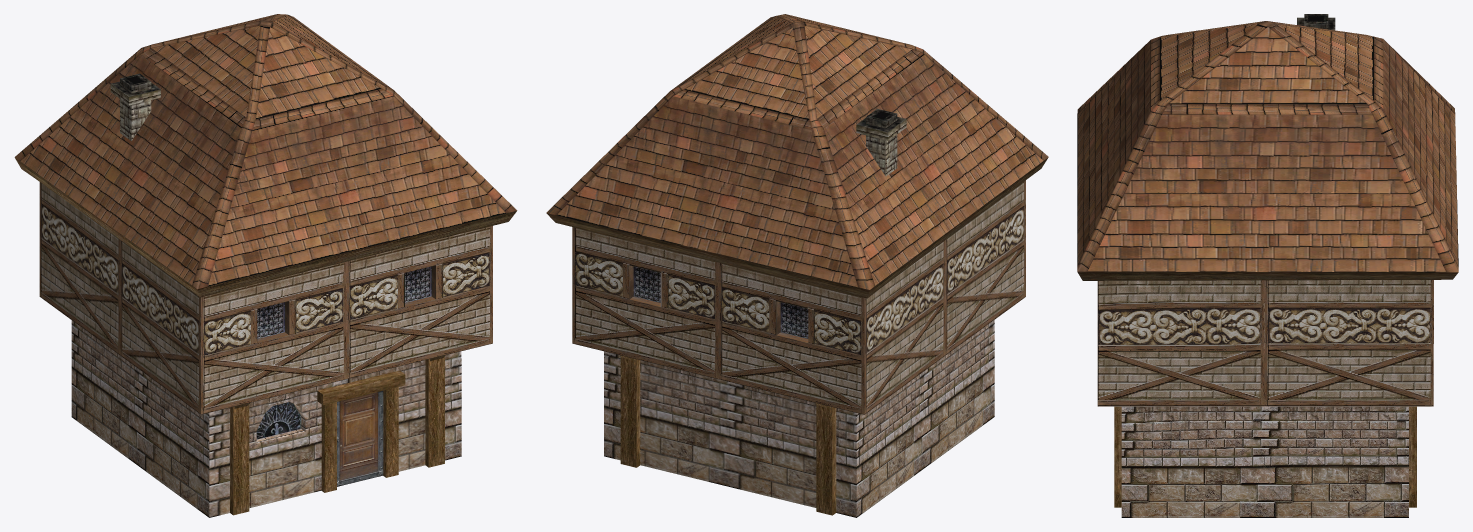
The model's file is rd_house8.glb.
The picture shows the model from 3 angles, left to right: view 1: azimuth 30°, elevation 25°; view 2: azimuth 150°, elevation 25°; view 3: azimuth 270°, elevation 25°; orthographic projection. The views are drawn at different scales.
Parts seen in each view (by area): view 1: rd_house8-col; view 2: rd_house8-col; view 3: rd_house8-col.
Part boxes in pixels (x1=…): rd_house8-col: x1=14, y1=14, x2=517, y2=517; rd_house8-col: x1=546, y1=14, x2=1048, y2=517; rd_house8-col: x1=1077, y1=14, x2=1458, y2=517.
Size of the model in its own units: 7.76 by 9.51 by 7.64.
8 materials, 8 textured.
